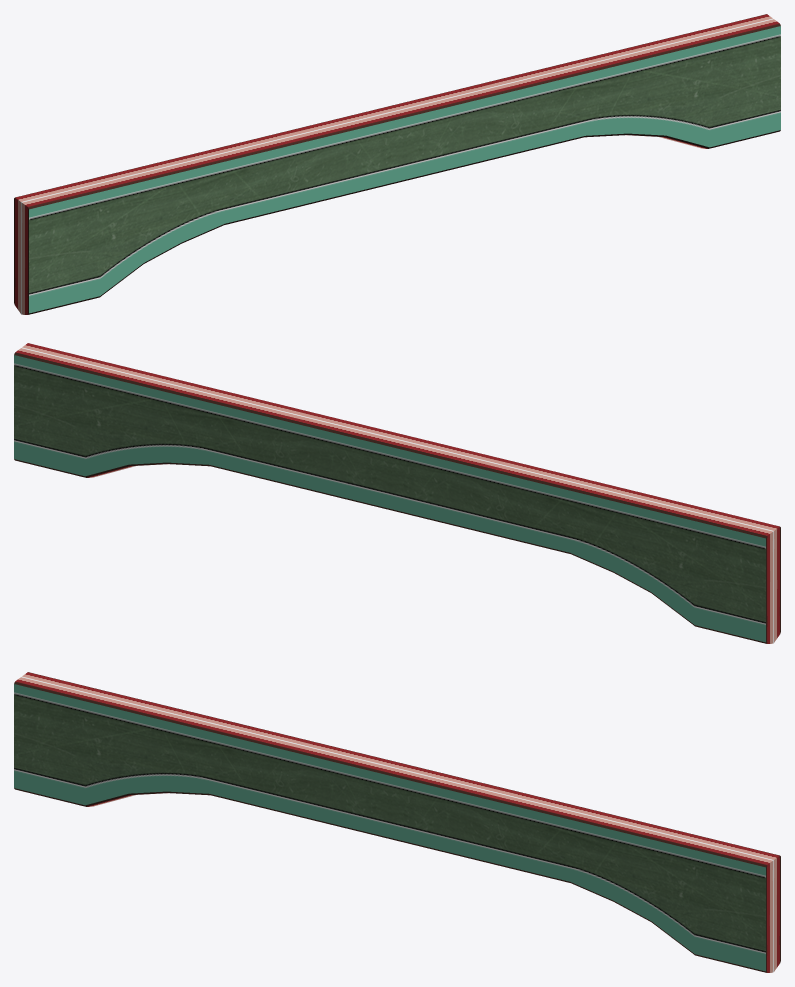
Rendered from SM_CrossBeam14A.fbx.
3 views of the same model, one above another, from view 1: azimuth 30°, elevation 25°; view 2: azimuth 150°, elevation 25°; view 3: azimuth 330°, elevation 25° (orthographic).
Visible parts, largest first — view 1: SM_CrossBeam14A; view 2: SM_CrossBeam14A; view 3: SM_CrossBeam14A.
Boxes of the visible parts, box(x1,y1,x2,y2) form: SM_CrossBeam14A: box(14, 14, 780, 314); SM_CrossBeam14A: box(14, 343, 780, 643); SM_CrossBeam14A: box(14, 672, 780, 972).
Bounding box in the file's own units: 293 × 10.06 × 41.82.
Materials: 1 (1 with a texture image).
